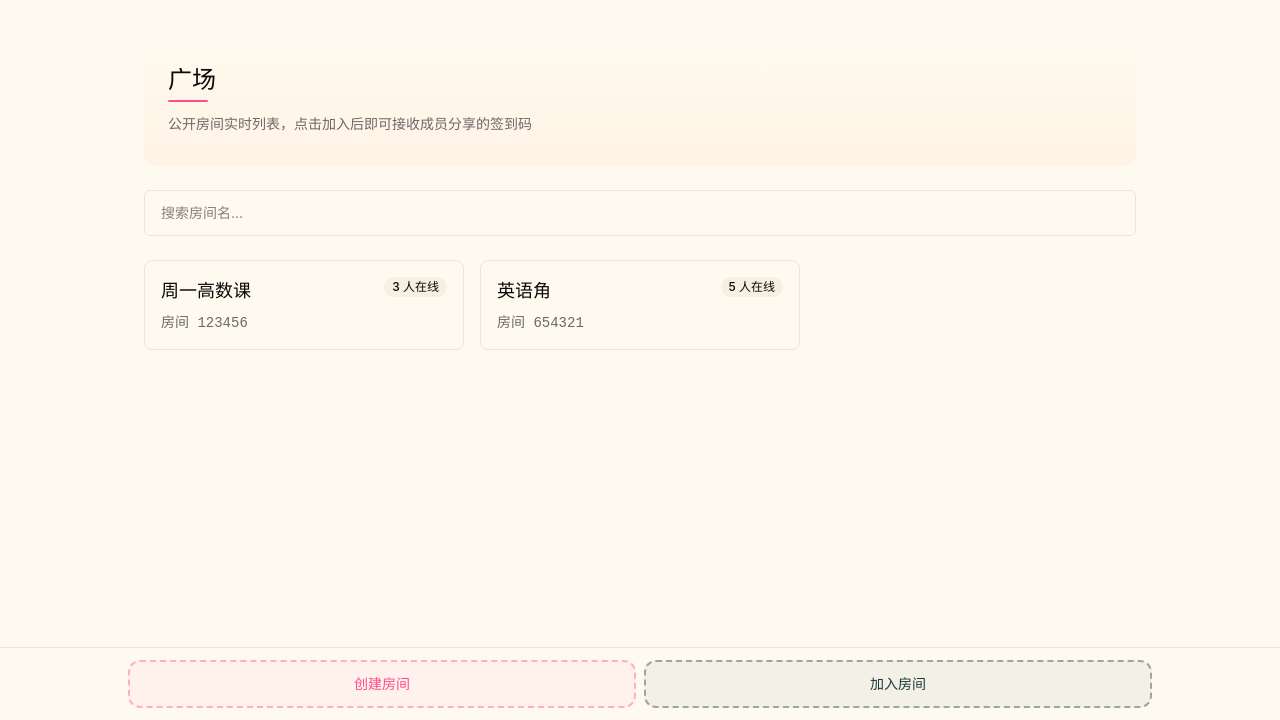
Plaza 创建房间对话框 › 数值不合规时提交才报错且不发请求
Click the button "创建房间" at coordinates (382, 684), box [128,660,636,708]
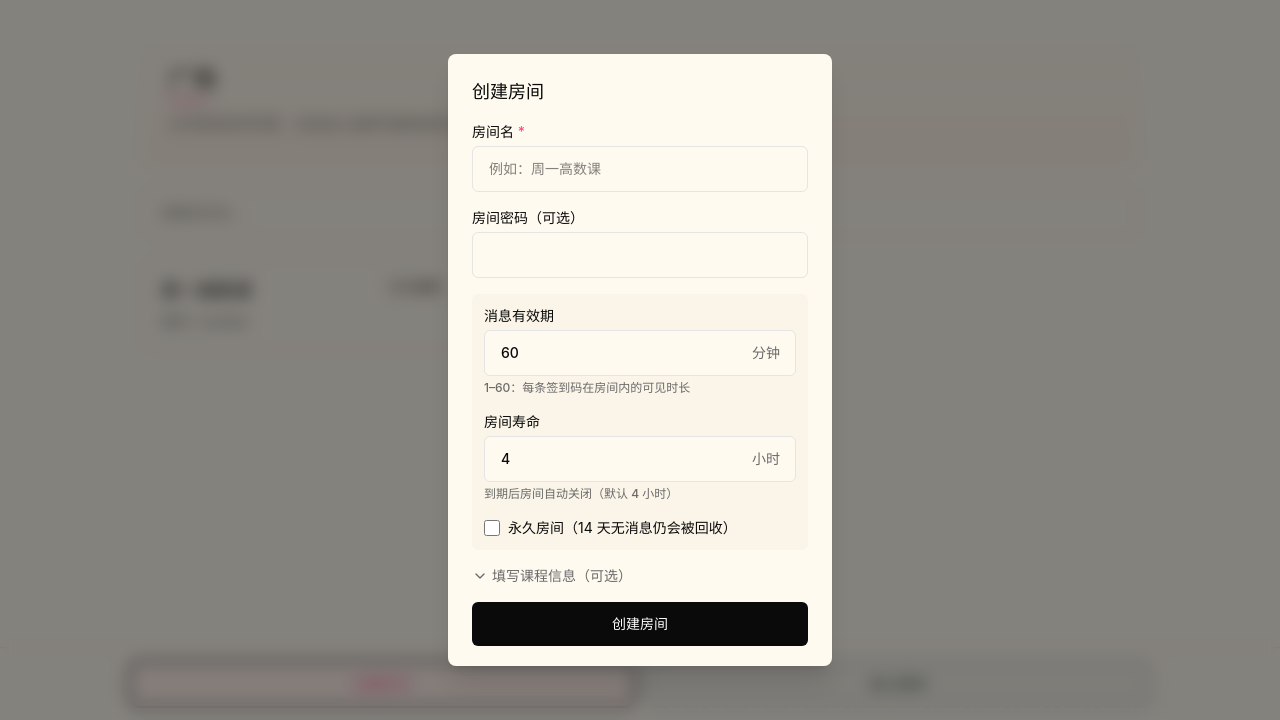
Now the field labelled "消息有效期" is shown, box [484,330,796,376]
Type "测试房" into the field labelled "房间名" at coordinates (640, 169), box [472,146,808,192]
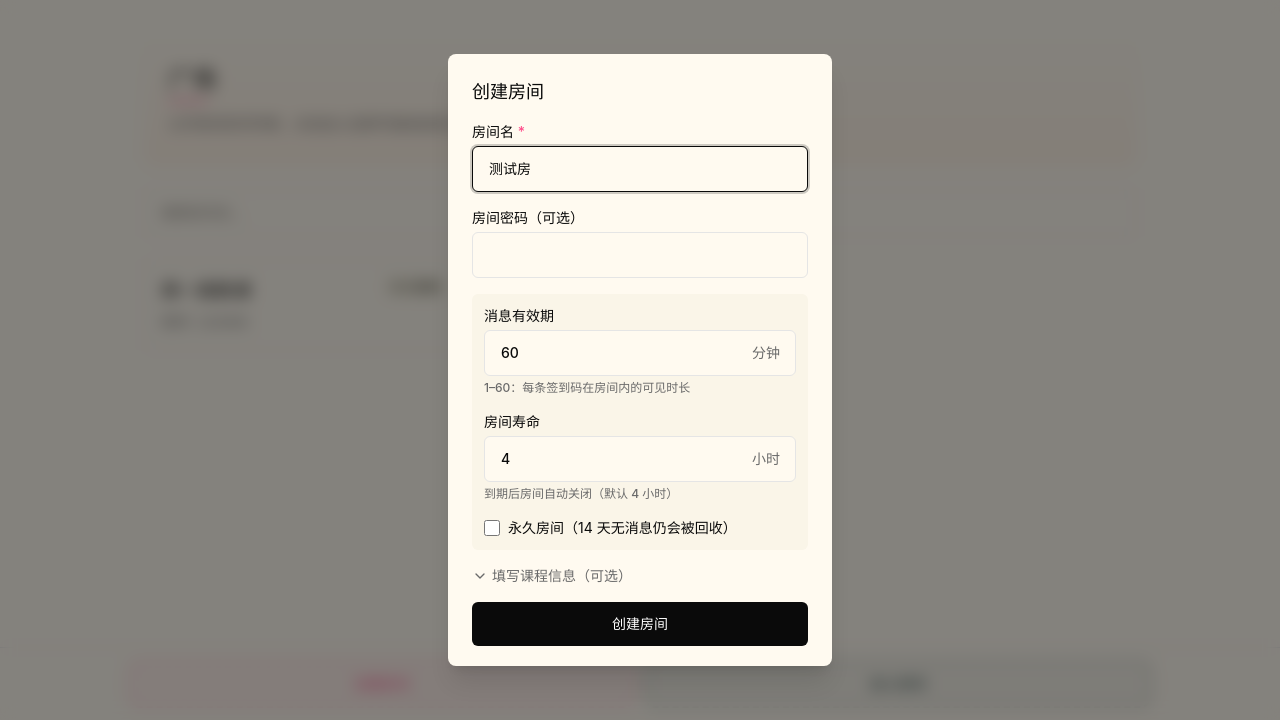
Replace the text in the field labelled "消息有效期" with "90" at coordinates (640, 353), box [484,330,796,376]
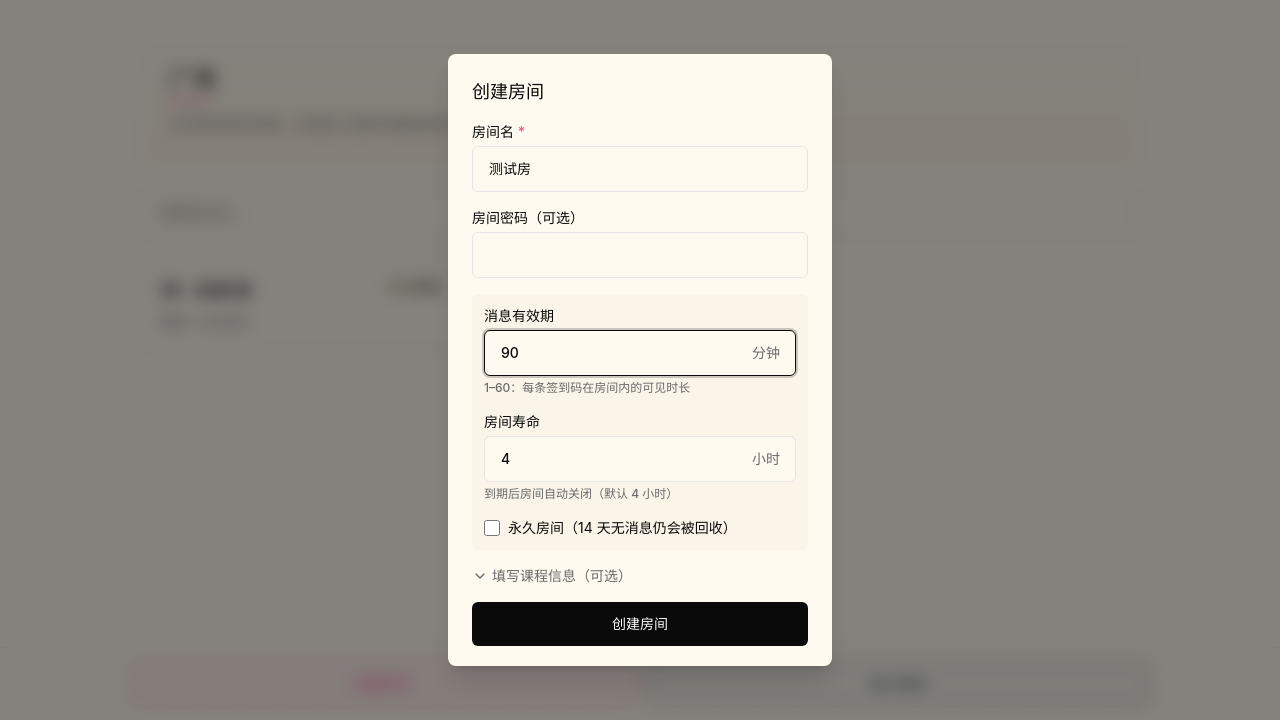
Expected: the text "消息有效期需为 1–60 的整数分钟" is not shown
Click the button "创建房间" at coordinates (640, 624), box [472,602,808,646]
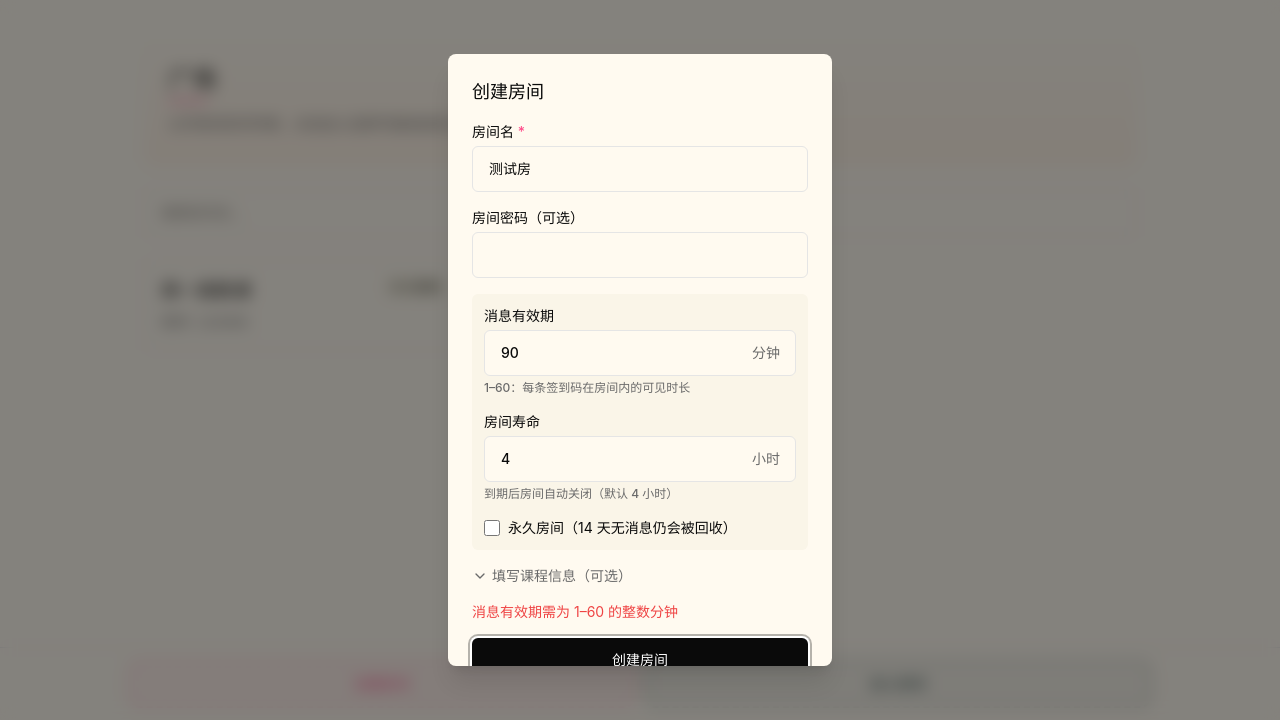
Now the text "消息有效期需为 1–60 的整数分钟" is shown, box [472,603,678,620]
